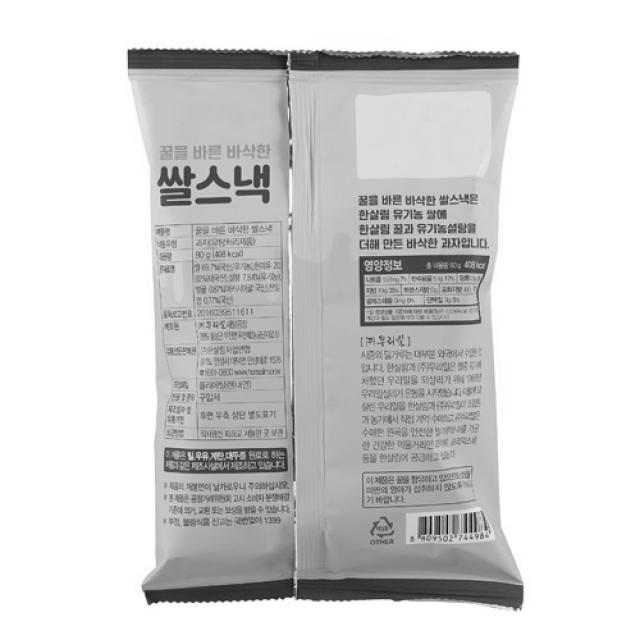Nutrition Label: (348, 246, 505, 335)
